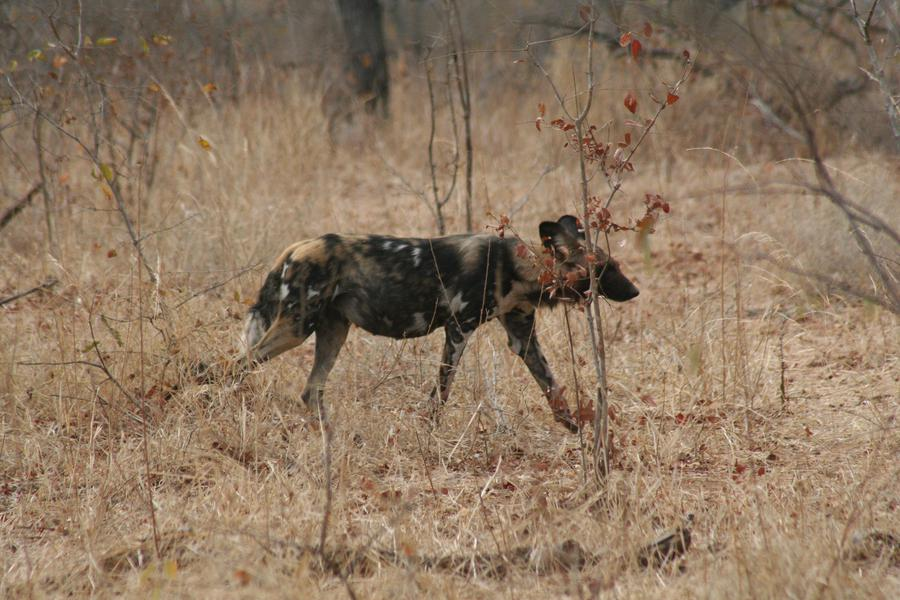wilddog: (275, 207, 629, 363)
